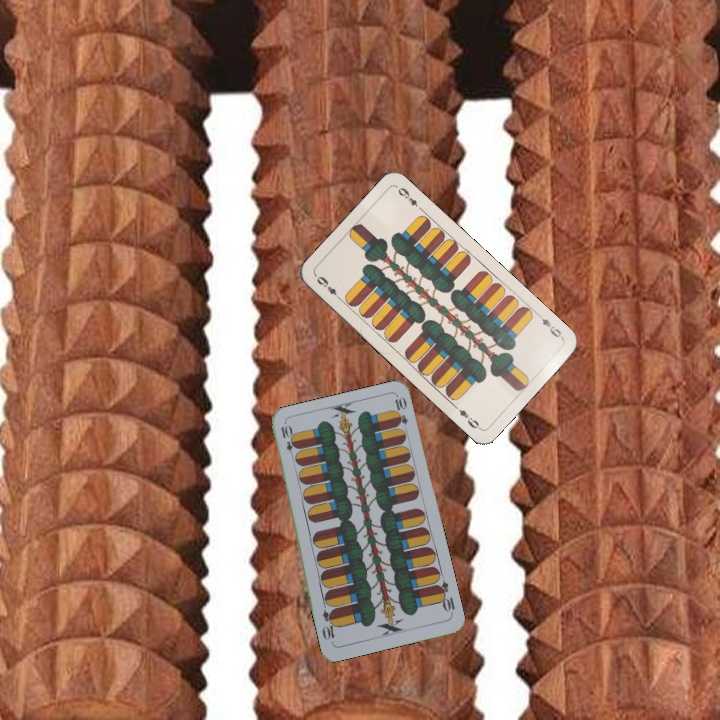E10: (432, 577, 457, 617), (277, 421, 298, 461)
E9: (312, 272, 344, 303), (533, 310, 565, 341)
